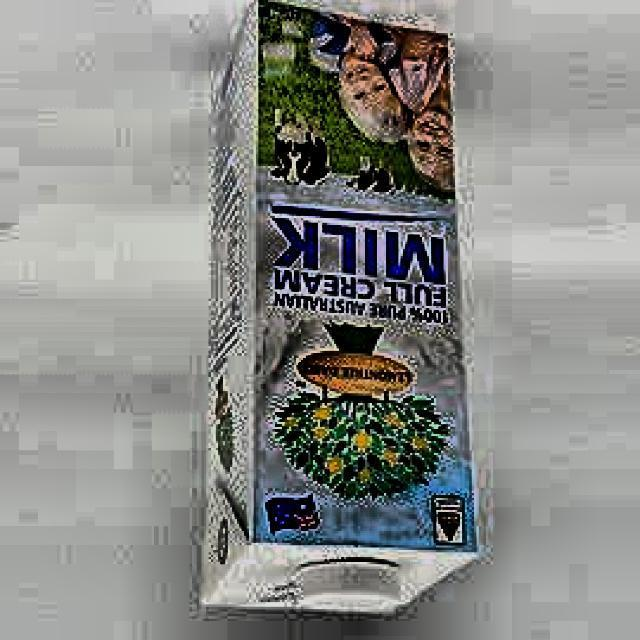cardboard: (199, 0, 481, 614)
